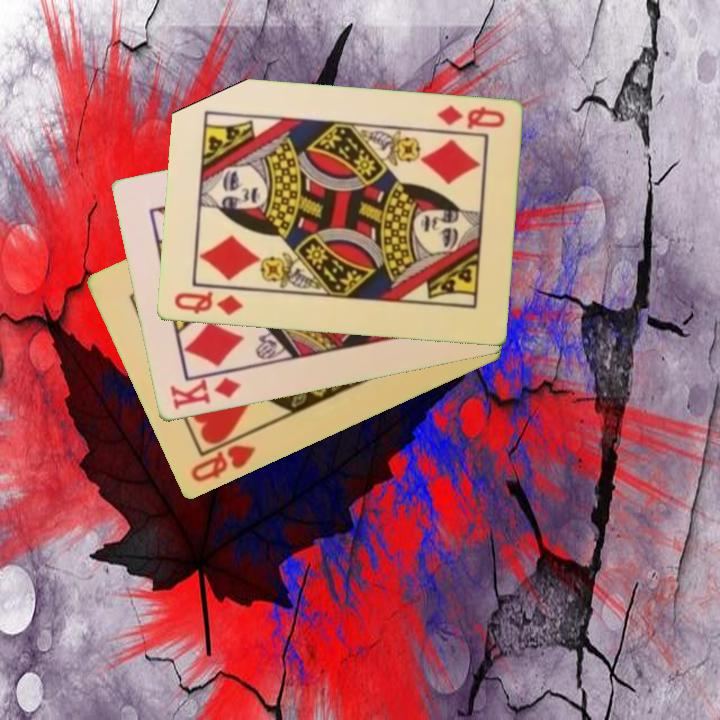Kd: (166, 368, 245, 413)
Qd: (170, 288, 246, 318), (432, 102, 508, 132)
Qh: (187, 441, 259, 486)
